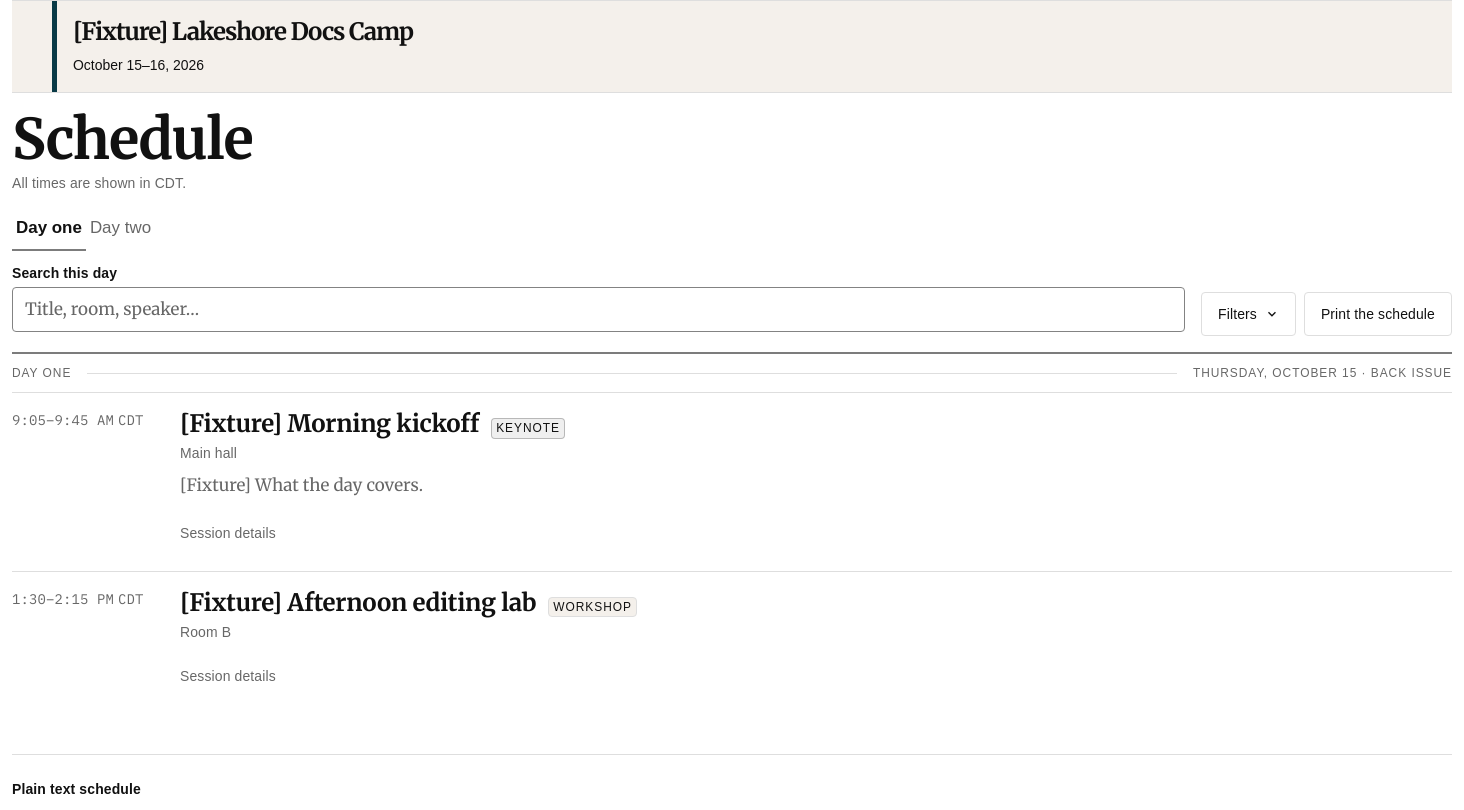
it: compact program controls › searches, states no results, and clears without opening Filters
Type "nothing names this" into the search field labelled "Search this day".
click(598, 309); type("nothing names this")  # box [12,287,1185,332]
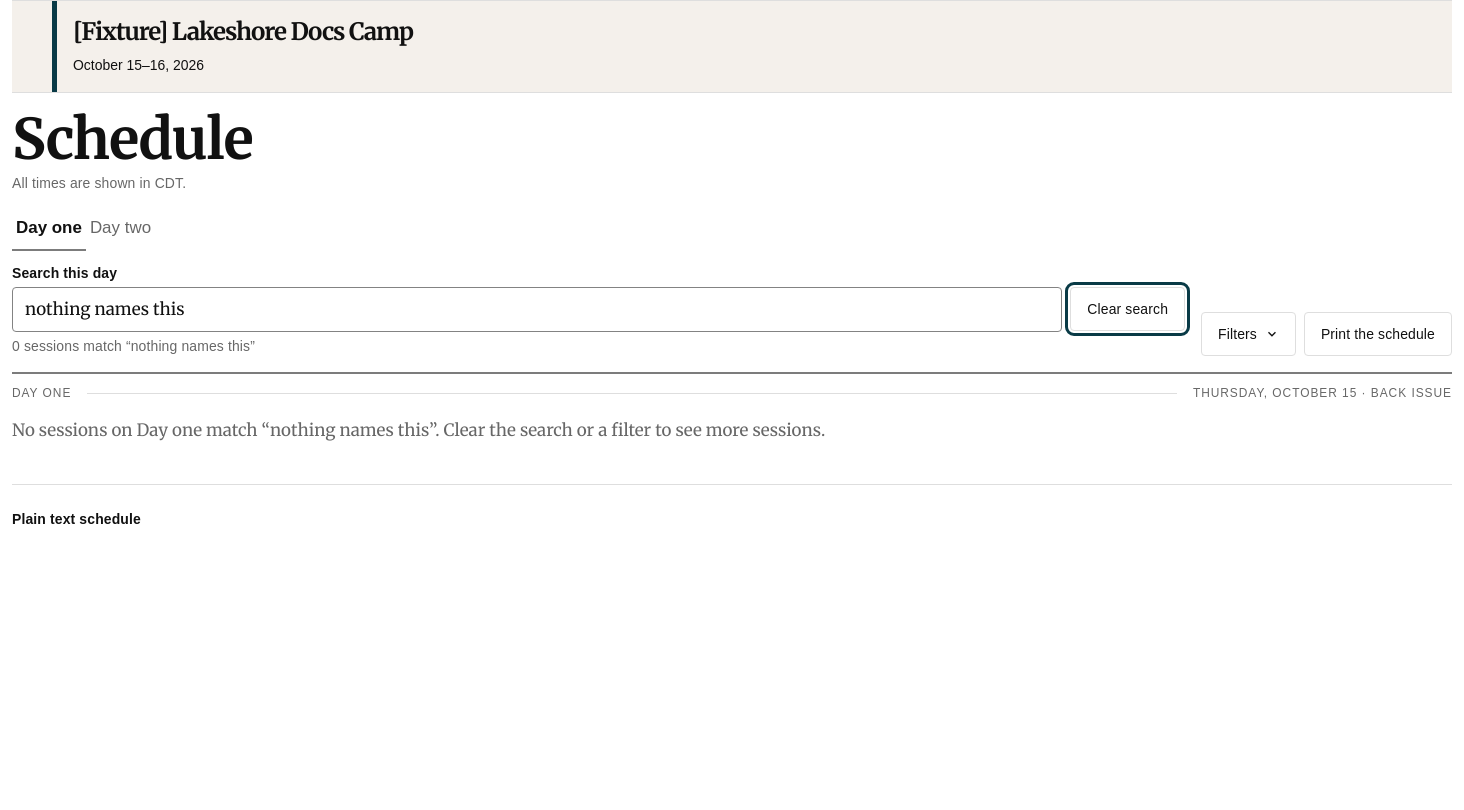
Expected: the text "No sessions on Day one match “nothing names this”" is shown, [12,419,825,441]
Click the button "Clear search".
click(1128, 310)  # box [1070,288,1185,332]
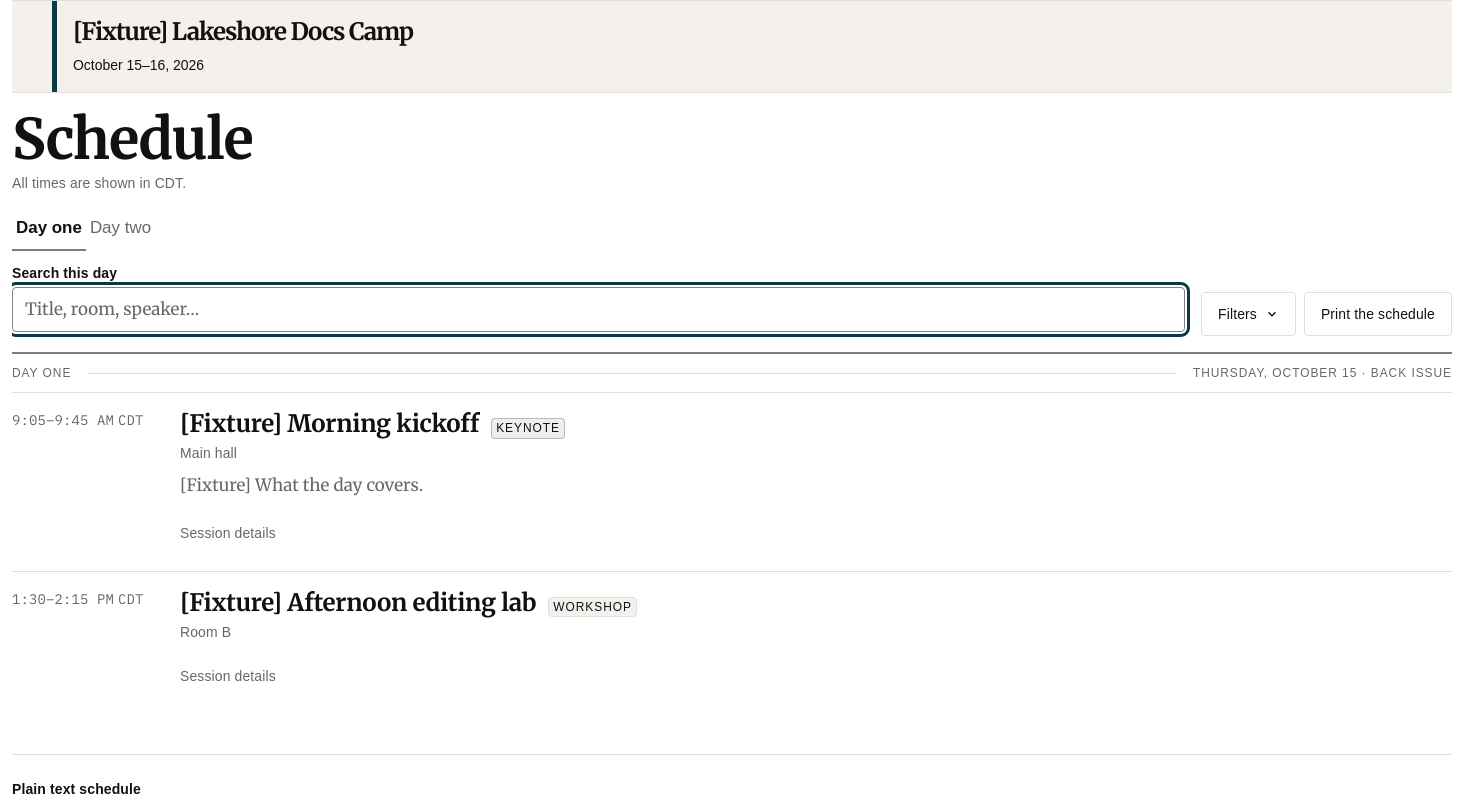
Expected: the search field labelled "Search this day" is empty, [12,287,1185,332]
Expected: the link "[Fixture] Morning kickoff" is shown, [180,408,479,439]
